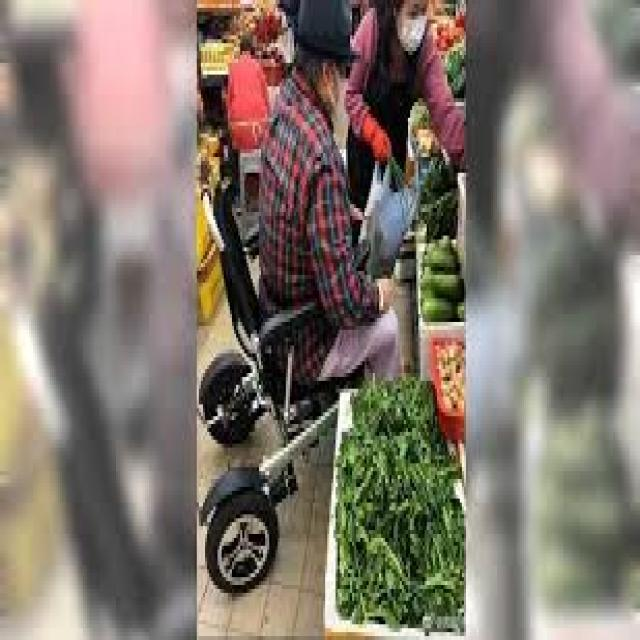wheelchairs: (201, 145, 393, 585)
